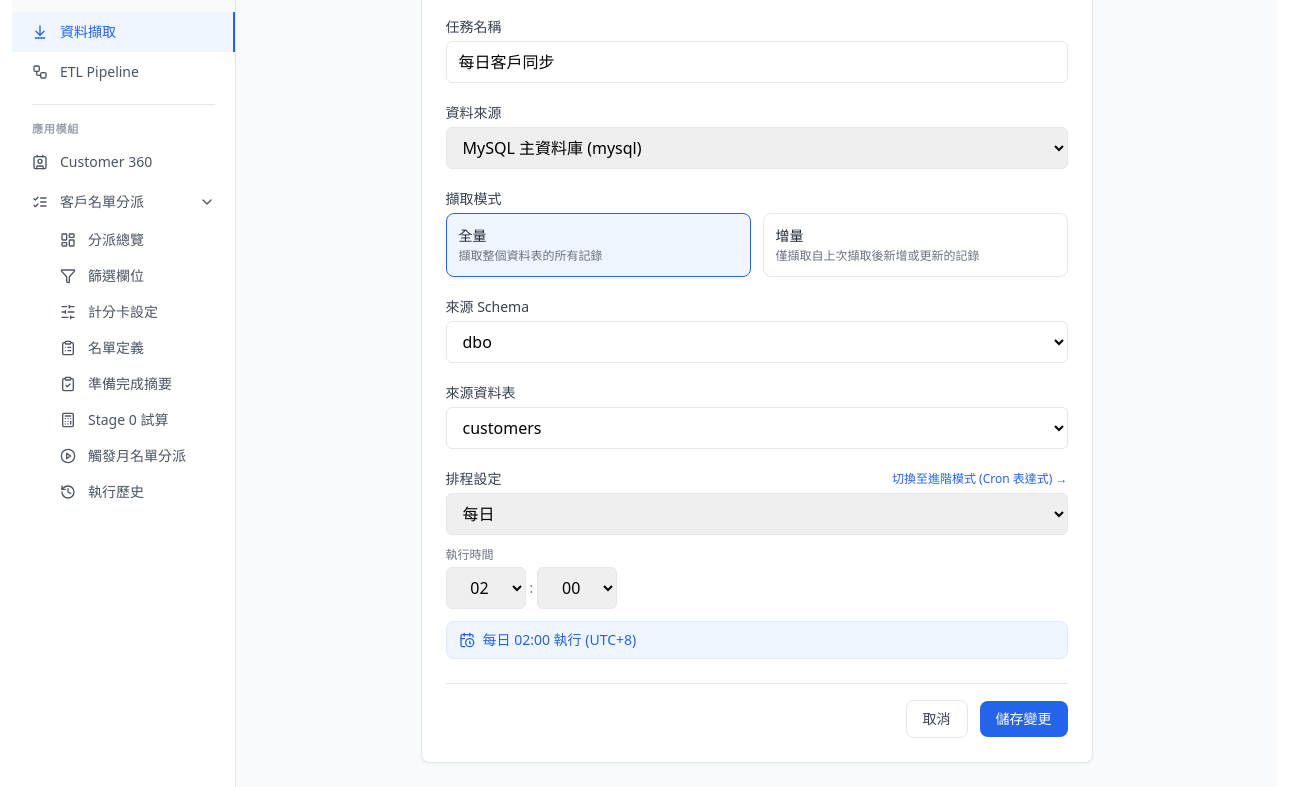
Test: EditExtractionTaskPage › 錯誤處理 › should show error toast when update fails with 409 EXTRACTION_NAME_EXISTS
(page scrolled)
Expected: the field labelled "任務名稱" holds "每日客戶同步", [446,41,1068,83]
Click the button "儲存變更". click: point(1024, 719)
box: [980,701,1068,737]
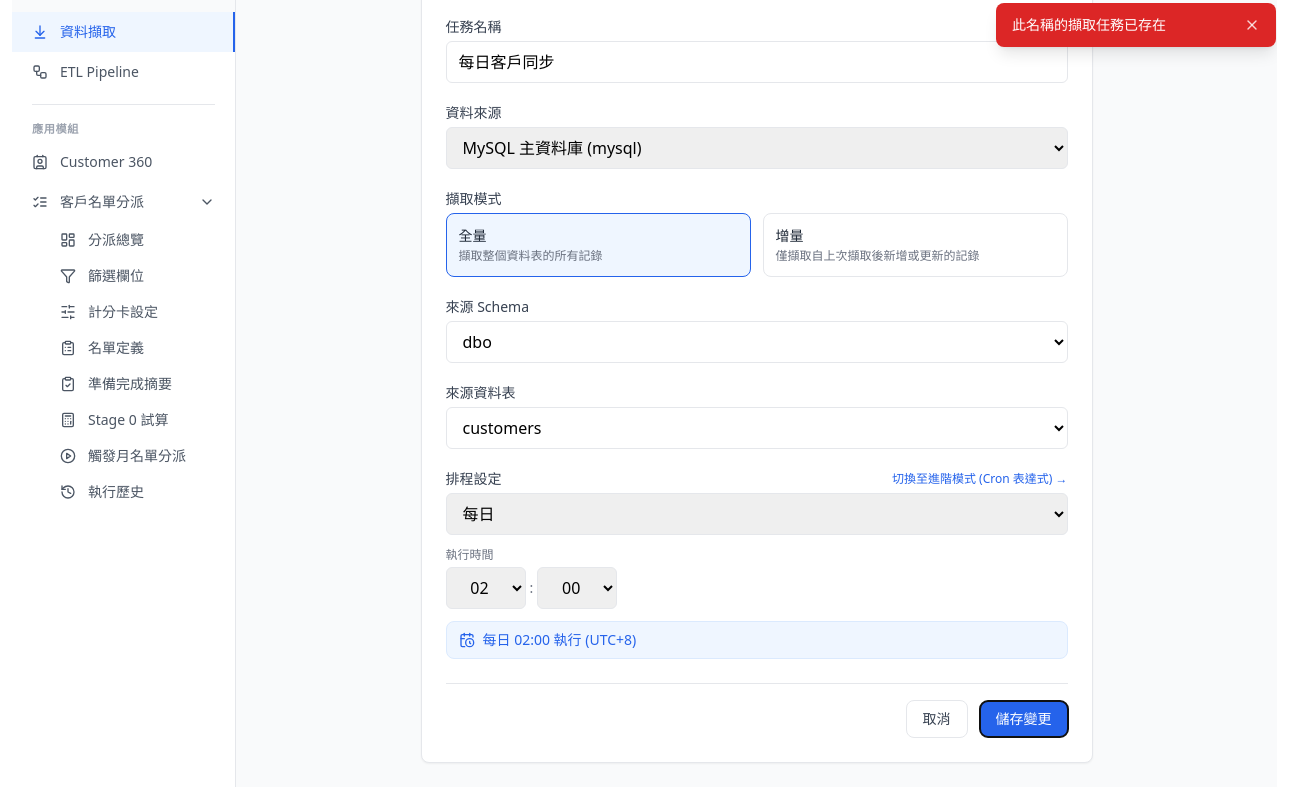
Result: the text "此名稱的擷取任務已存在" is shown at [1012,15,1166,34]
